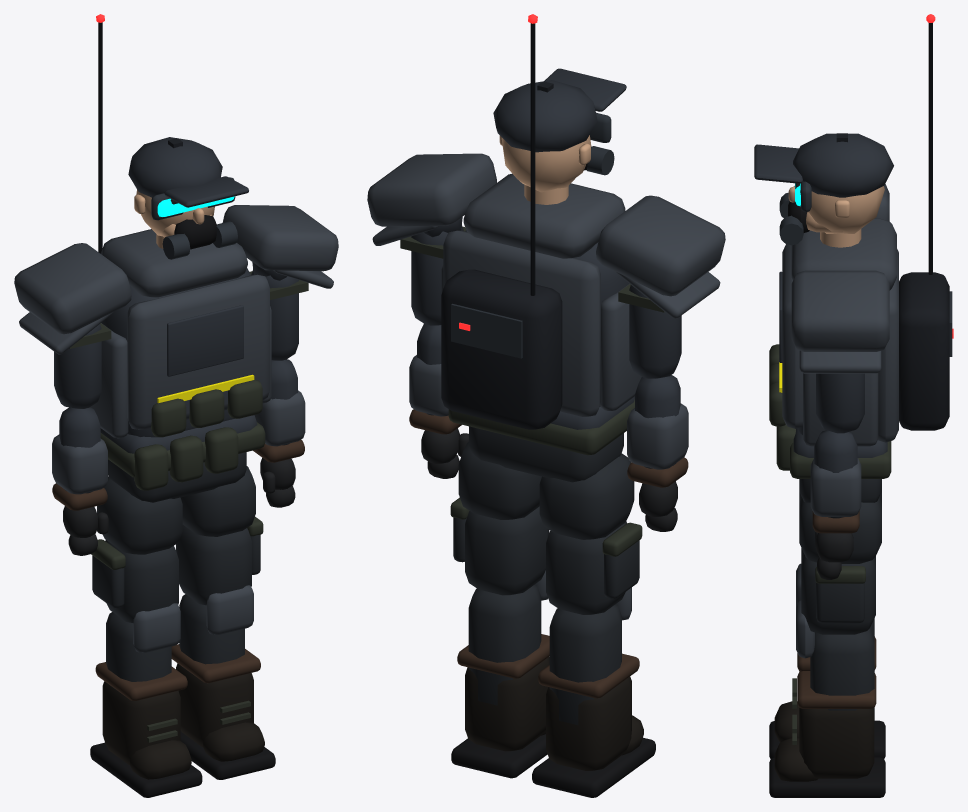
File: npc3.glb
3 views of the same model, side by side, from view 1: azimuth 30°, elevation 25°; view 2: azimuth 150°, elevation 25°; view 3: azimuth 270°, elevation 25° (orthographic). The views are drawn at different scales.
Visible parts, largest first — view 1: Body, LegLMesh, LegRMesh, ArmLMesh, ArmRMesh, HeadMesh; view 2: Body, LegLMesh, LegRMesh, ArmLMesh, ArmRMesh, HeadMesh; view 3: Body, LegRMesh, ArmRMesh, HeadMesh, LegLMesh.
Part boxes in pixels (x1,y1,x2,y2): Body: [90, 14, 271, 502]; LegLMesh: [90, 476, 202, 797]; LegRMesh: [171, 466, 275, 779]; ArmLMesh: [14, 243, 131, 555]; ArmRMesh: [222, 205, 338, 507]; HeadMesh: [128, 137, 248, 259]; Body: [441, 14, 641, 482]; LegLMesh: [532, 453, 655, 797]; LegRMesh: [450, 442, 549, 778]; ArmLMesh: [596, 195, 725, 531]; ArmRMesh: [367, 153, 496, 478]; HeadMesh: [493, 68, 626, 204]; Body: [769, 14, 953, 502]; LegRMesh: [769, 497, 885, 797]; ArmRMesh: [791, 270, 889, 579]; HeadMesh: [754, 133, 893, 247]; LegLMesh: [769, 492, 885, 758].
Bounding box in the file's own units: 0.9003 × 2.16 × 0.5306.
